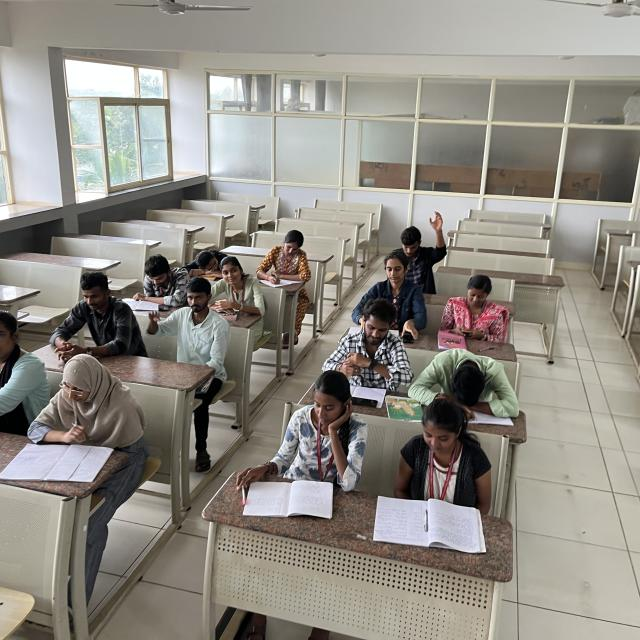Hand Rising: (393, 204, 452, 296)
Reading: (237, 362, 363, 521), (368, 397, 500, 532), (21, 357, 145, 464), (324, 303, 416, 399), (114, 252, 196, 314)
Sleeping: (403, 336, 523, 425), (178, 242, 242, 282)
Using Phone: (432, 270, 518, 348)
Writing: (249, 227, 313, 298)
